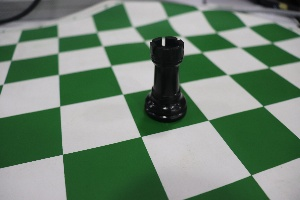black_rook: (128, 23, 196, 129)
